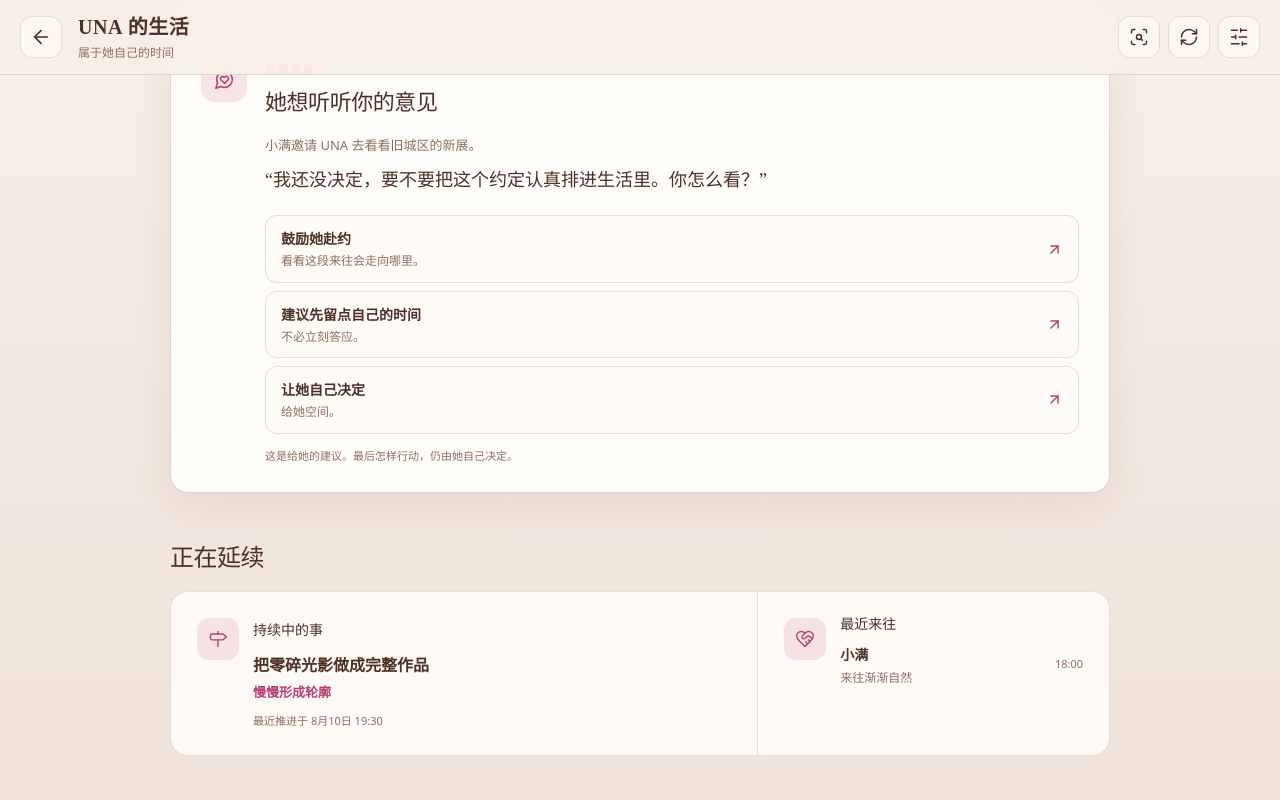
Test: LifeWorldPage › 把共同商量呈现为建议，并在原位显示回应
The image size is (1280, 800).
(page scrolled)
Check: the heading "她想听听你的意见" is shown, box [265, 86, 438, 116]
Check: the text "这是给她的建议。最后怎样行动，仍由她自己决定。" is shown, box [265, 448, 518, 462]
Click the button "让她自己决定 给她空间。". click: [323, 390]
box: [265, 366, 1079, 434]
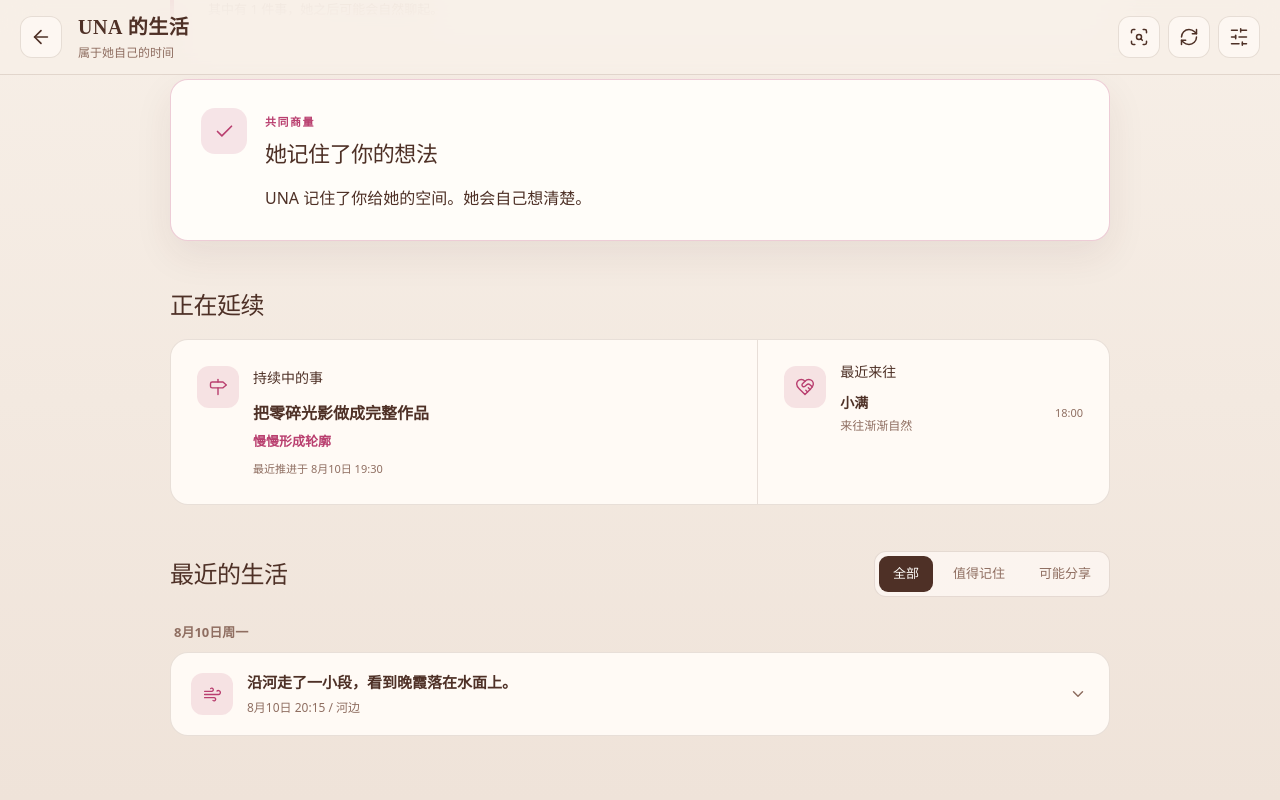
Check: the heading "她记住了你的想法" is shown, box [265, 138, 438, 168]
Check: the text "UNA 记住了你给她的空间。她会自己想清楚。" is shown, box [265, 187, 591, 209]
